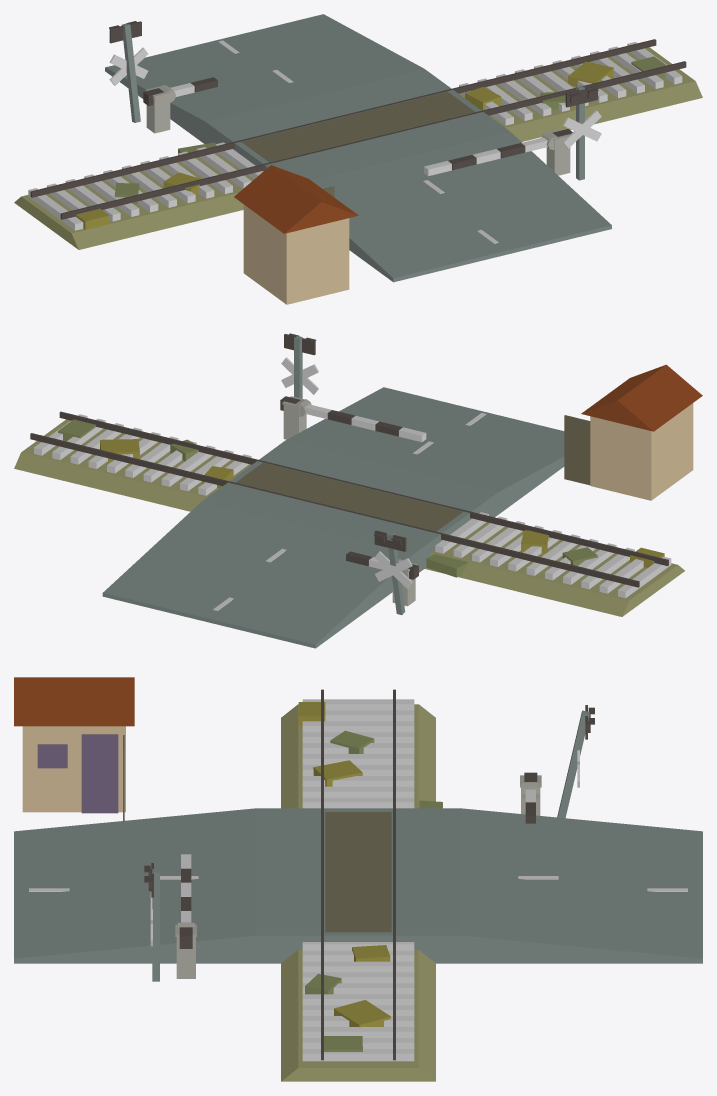
File: SM_PasoNivel_90_v2_Abandonado_LOD0.fbx
The picture shows the model from 3 angles, top to bottom: view 1: azimuth 30°, elevation 25°; view 2: azimuth 150°, elevation 25°; view 3: azimuth 270°, elevation 25°; orthographic projection. The views are drawn at different scales.
Visible parts, largest first — view 1: SM_paso_nivel_kit_v2_LOD0, Barrera_1, Barrera_2; view 2: SM_paso_nivel_kit_v2_LOD0, Barrera_1, Barrera_2; view 3: SM_paso_nivel_kit_v2_LOD0, Barrera_1, Barrera_2.
Part boxes in pixels (<box>): SM_paso_nivel_kit_v2_LOD0: <box>14,14,702,304</box>; Barrera_1: <box>424,129,572,175</box>; Barrera_2: <box>143,77,217,105</box>; SM_paso_nivel_kit_v2_LOD0: <box>14,333,702,648</box>; Barrera_1: <box>280,396,426,442</box>; Barrera_2: <box>346,551,418,579</box>; SM_paso_nivel_kit_v2_LOD0: <box>14,677,702,1081</box>; Barrera_1: <box>177,854,194,948</box>; Barrera_2: <box>522,772,539,823</box>.
Size of the model in its own units: 20 by 3.04 by 16.
